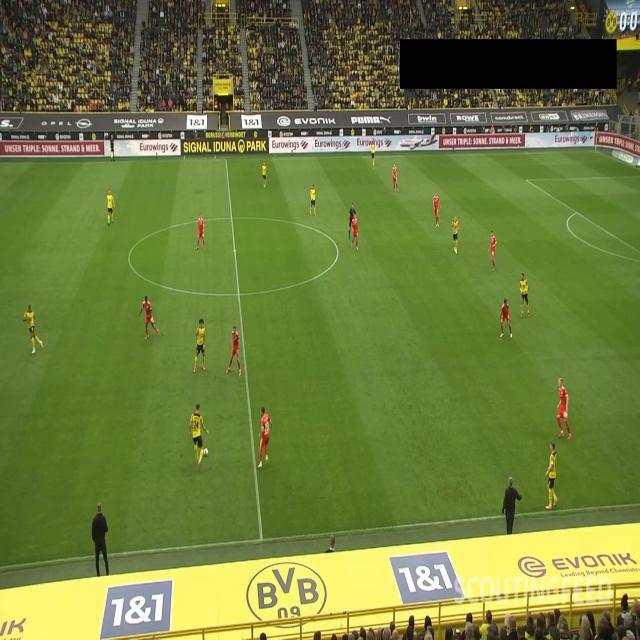ball: (203, 447, 209, 458)
